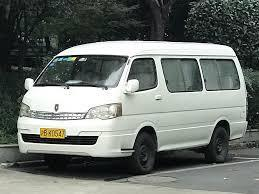van: (15, 39, 249, 171)
